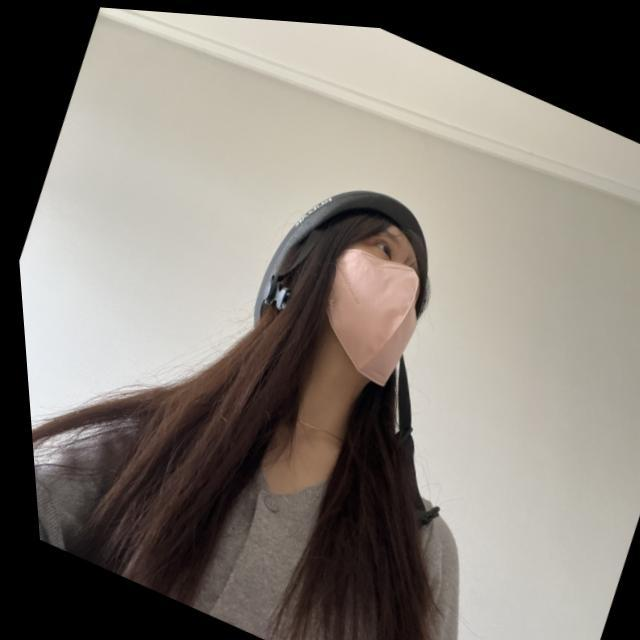Helmet: (251, 187, 433, 390)
